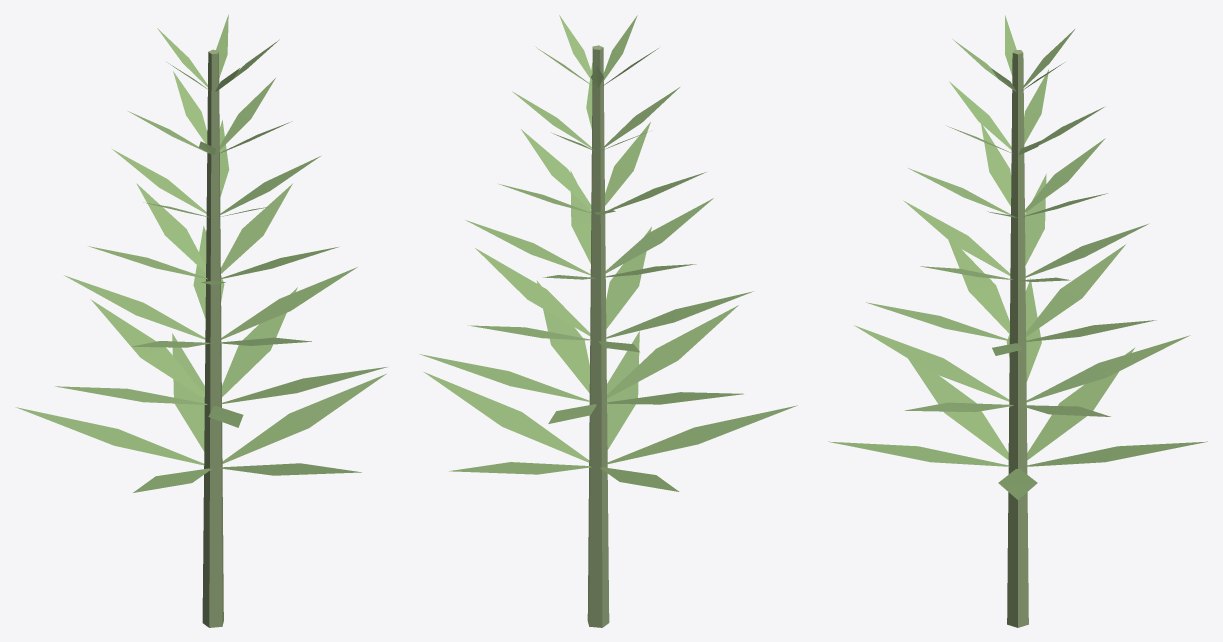
Rendered from pickup_hemp.glb.
The picture shows the model from 3 angles, left to right: view 1: azimuth 30°, elevation 25°; view 2: azimuth 150°, elevation 25°; view 3: azimuth 270°, elevation 25°; orthographic projection.
Visible parts, largest first — view 1: pickup_hemp; view 2: pickup_hemp; view 3: pickup_hemp.
Boxes of the visible parts, x1,y1,x2,y2 form: pickup_hemp: (15,14,388,627); pickup_hemp: (419,15,797,627); pickup_hemp: (828,15,1207,627).
Size of the model in its own units: 0.6603 by 1.12 by 0.6657.
